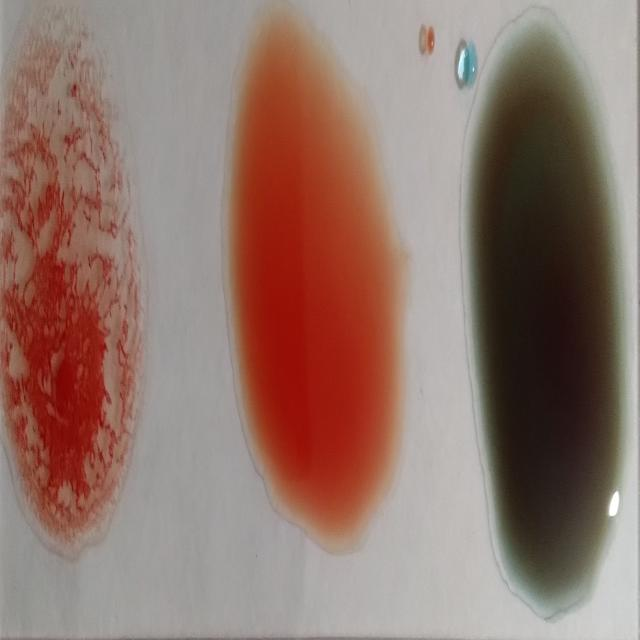D: (1, 32, 138, 556)
